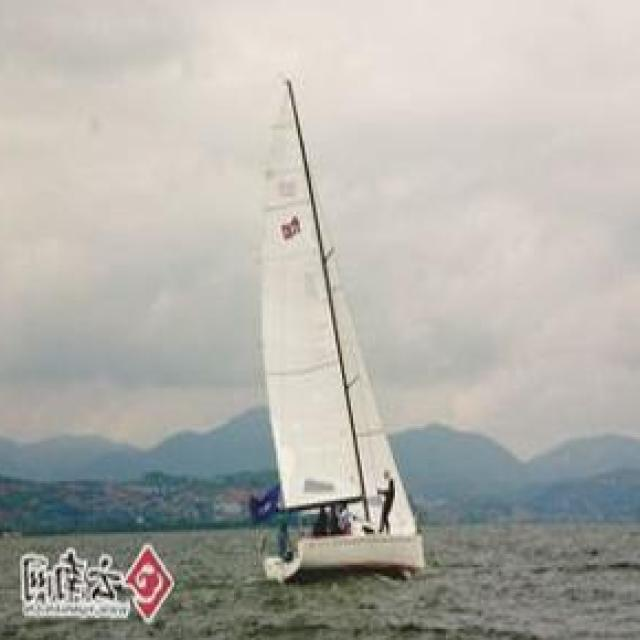sailboat: (244, 65, 426, 579)
